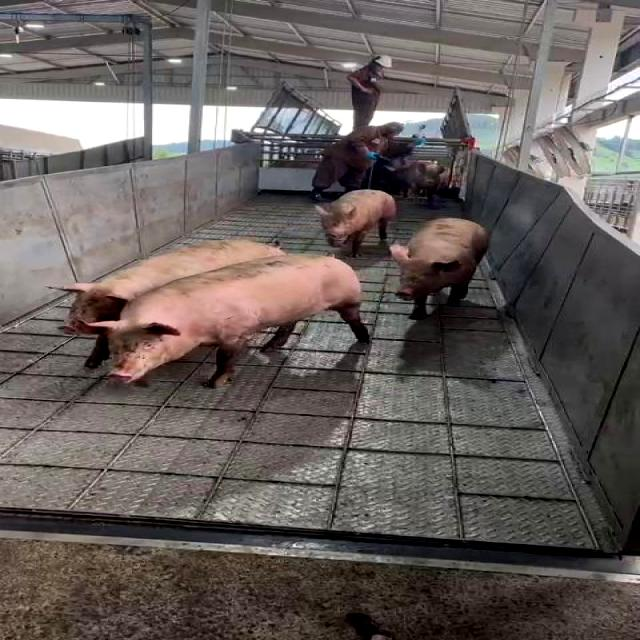pig: (96, 256, 368, 385), (391, 218, 489, 318), (317, 189, 395, 255), (85, 334, 110, 368)
